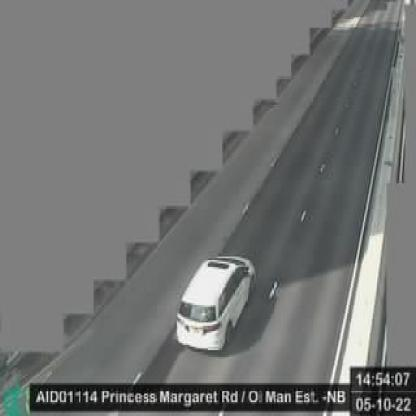Car: (176, 253, 254, 354)
